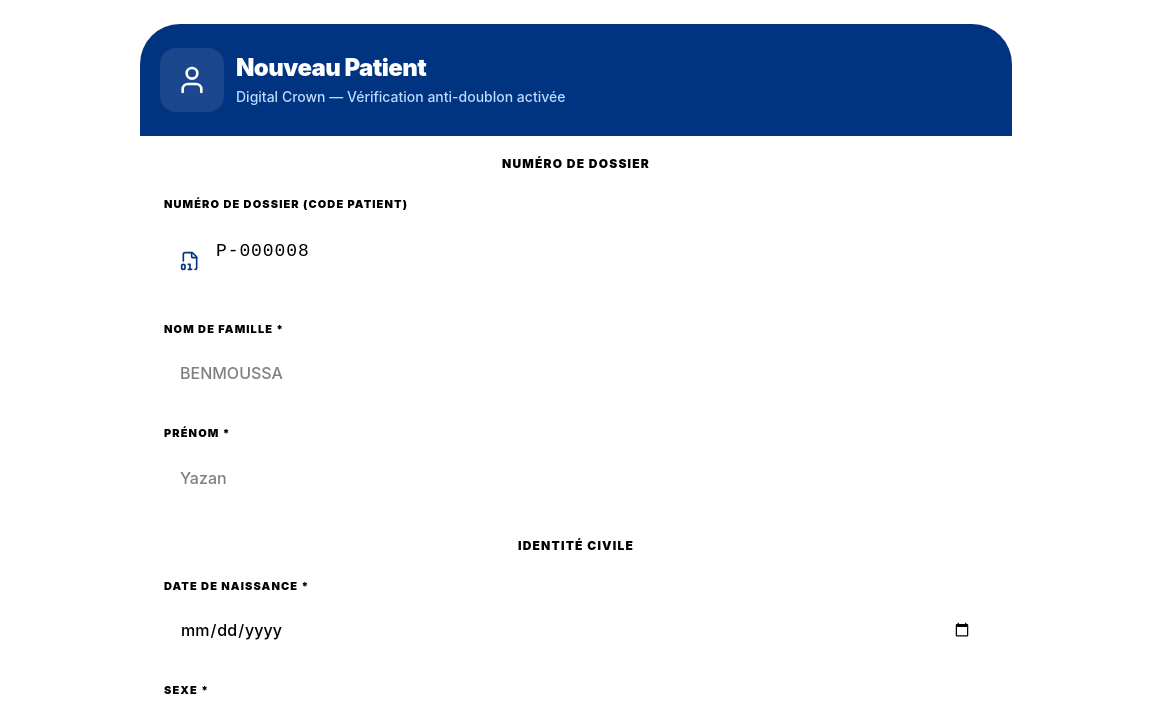
Test: AddPatientForm G2 dossier-number availability › shows backend truth for taken and available dossier numbers
The width and height of the screenshot is (1152, 707).
Replace the text in the field with placeholder "P-XXXXXX" with "P-TAKEN". click: (576, 250)
box: [160,220,992,280]
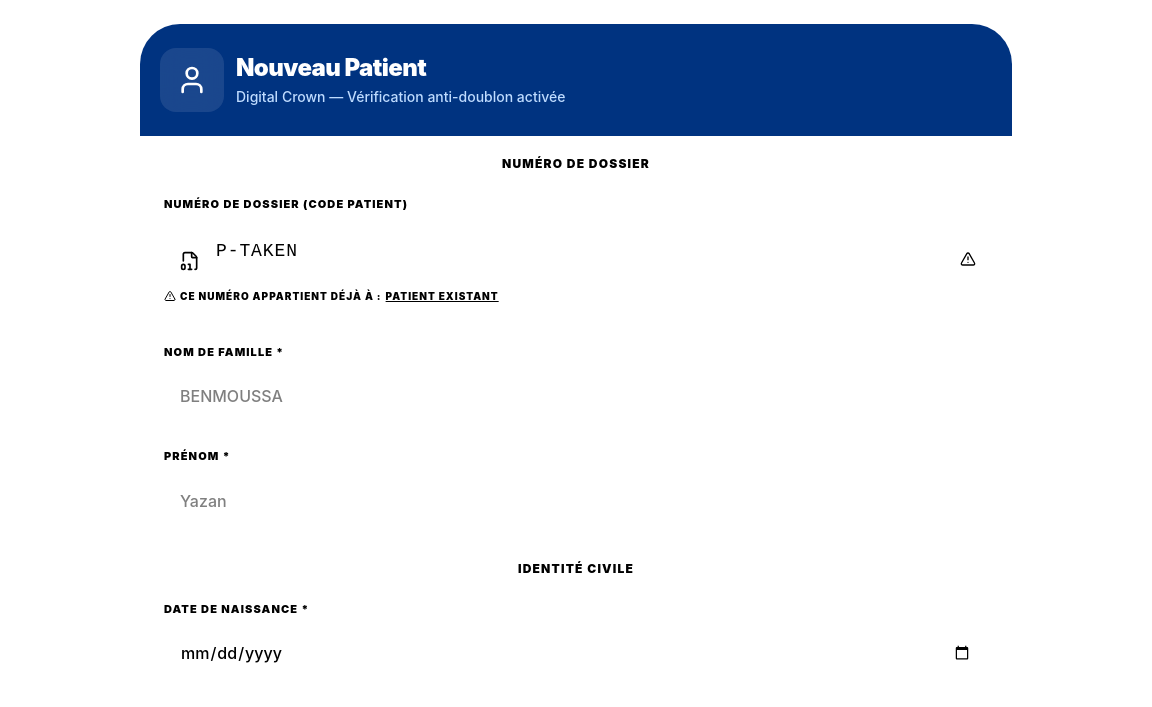
Expected: the text "Ce numéro appartient déjà à : Patient Existant" is shown, [164,290,499,302]
Expected: the text "Patient Existant" is shown, [386,288,499,304]
Replace the text in the field with placeholder "P-XXXXXX" with "P-FREE". click: (576, 250)
box: [160,220,992,280]
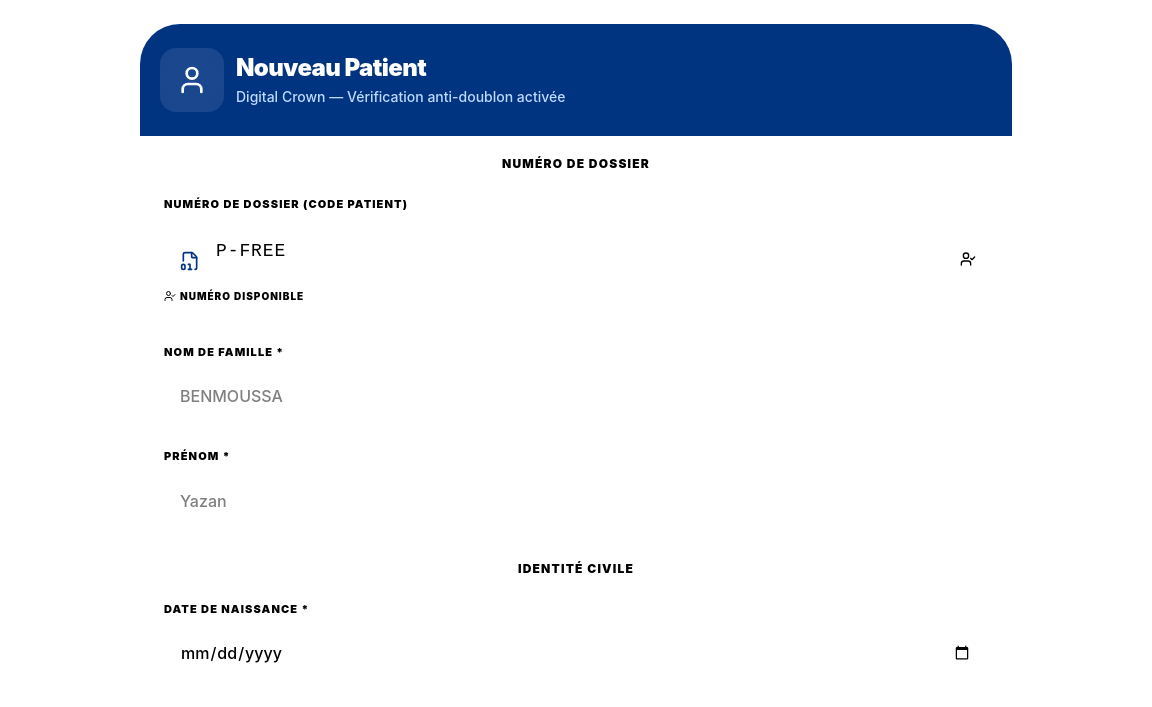
Expected: the text "Numéro disponible" is shown, [164,290,304,302]
